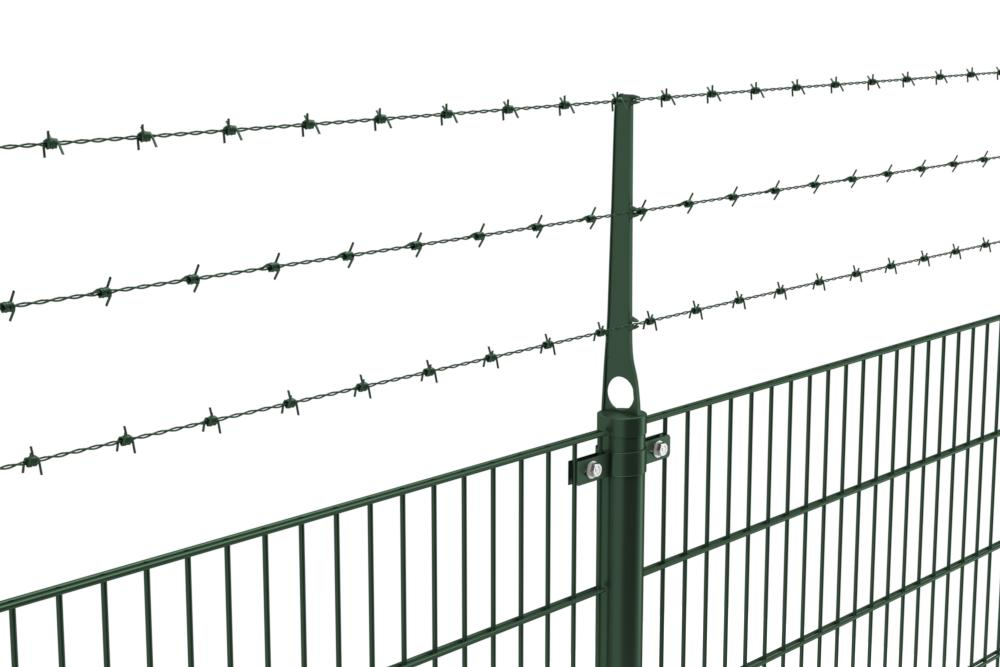obstacle: (0, 23, 1000, 665)
